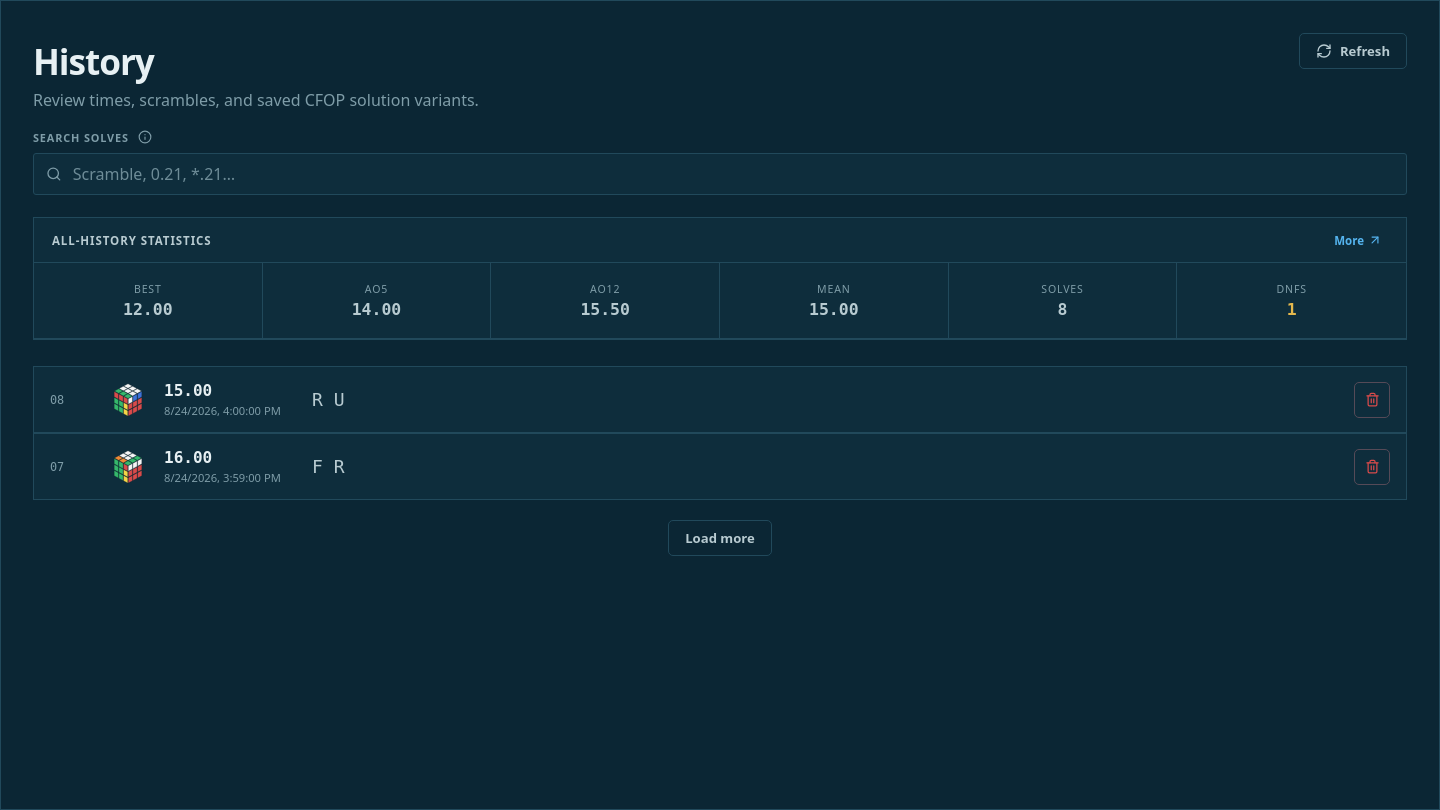
HistoryView filters › shows a retryable search error and recovers on retry
Type "R" into the search field labelled "Search solves" at [733, 174], box [71,154,1396,194]
Wait 300 ms
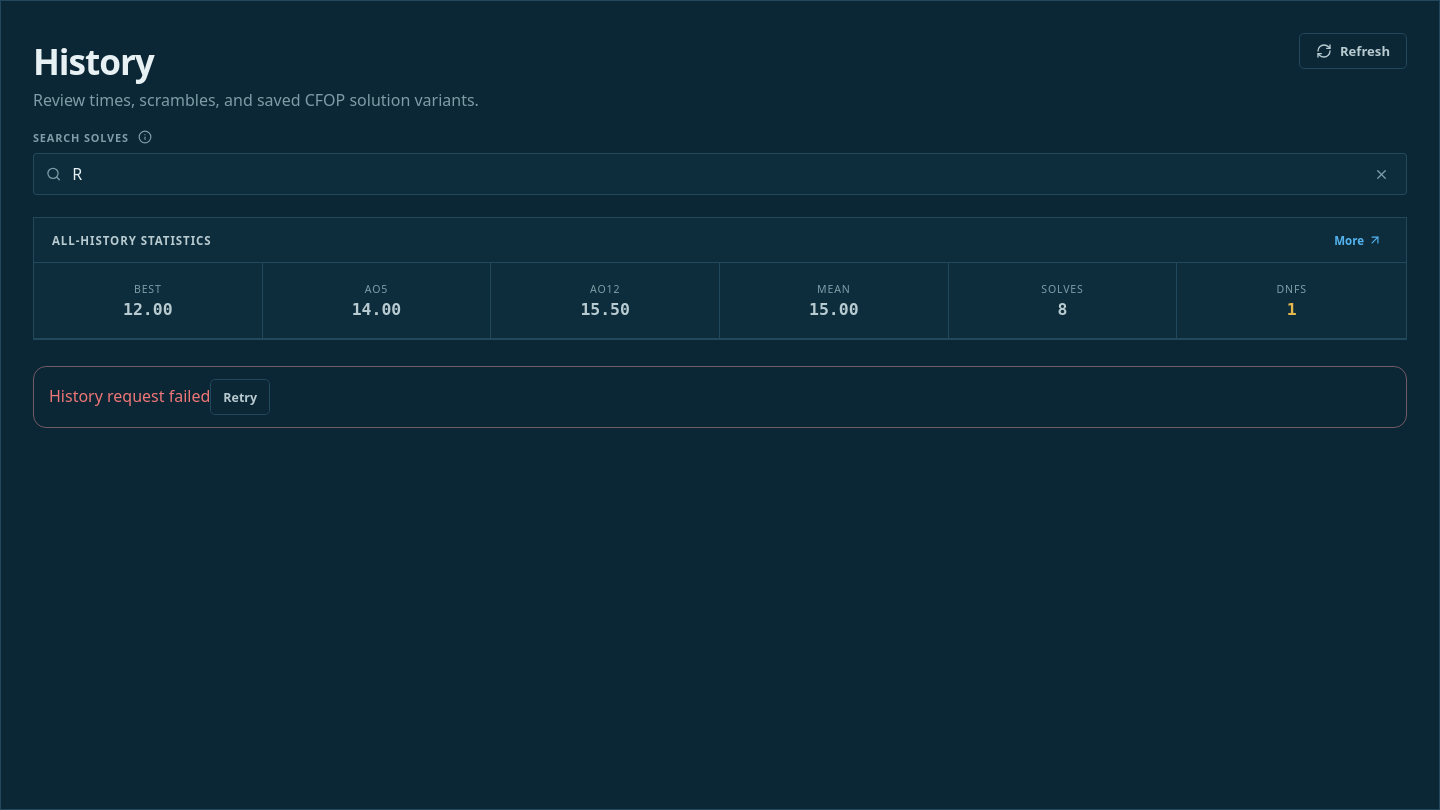
expect the message shows "History request failed": met, box [49,384,210,406]
Click the button "Retry" at [240, 397], box [210,379,270,415]
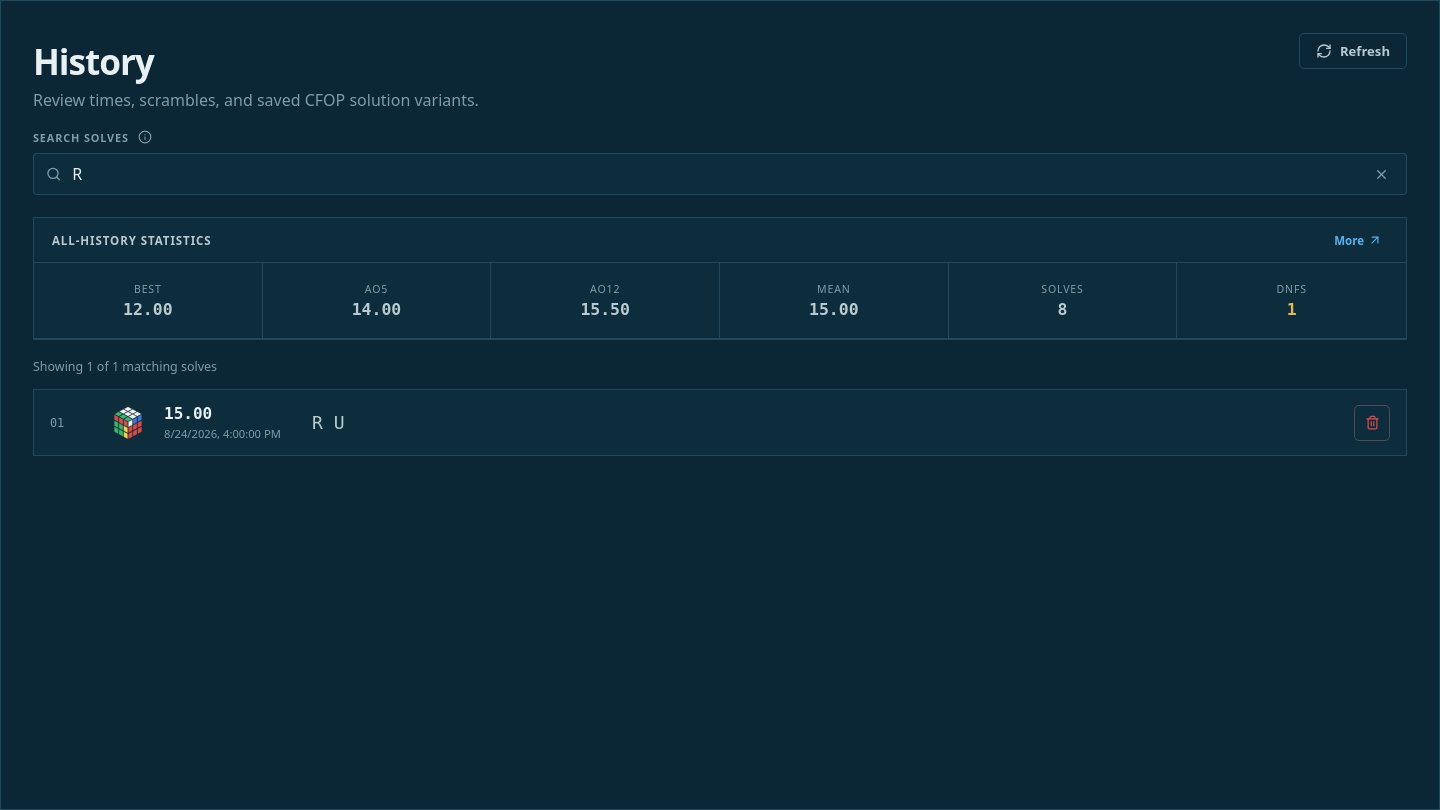
expect the text "Showing 1 of 1 matching solves" is shown: met, box [33,358,217,375]
expect the text "R U" is shown: met, box [312,412,344,433]
